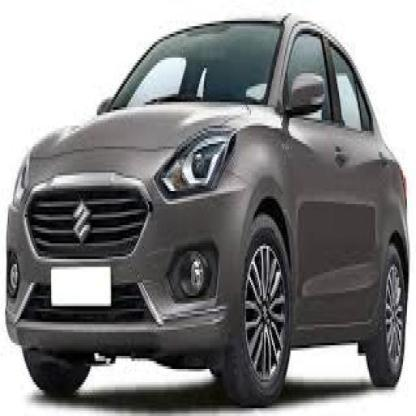car: (0, 6, 410, 407)
